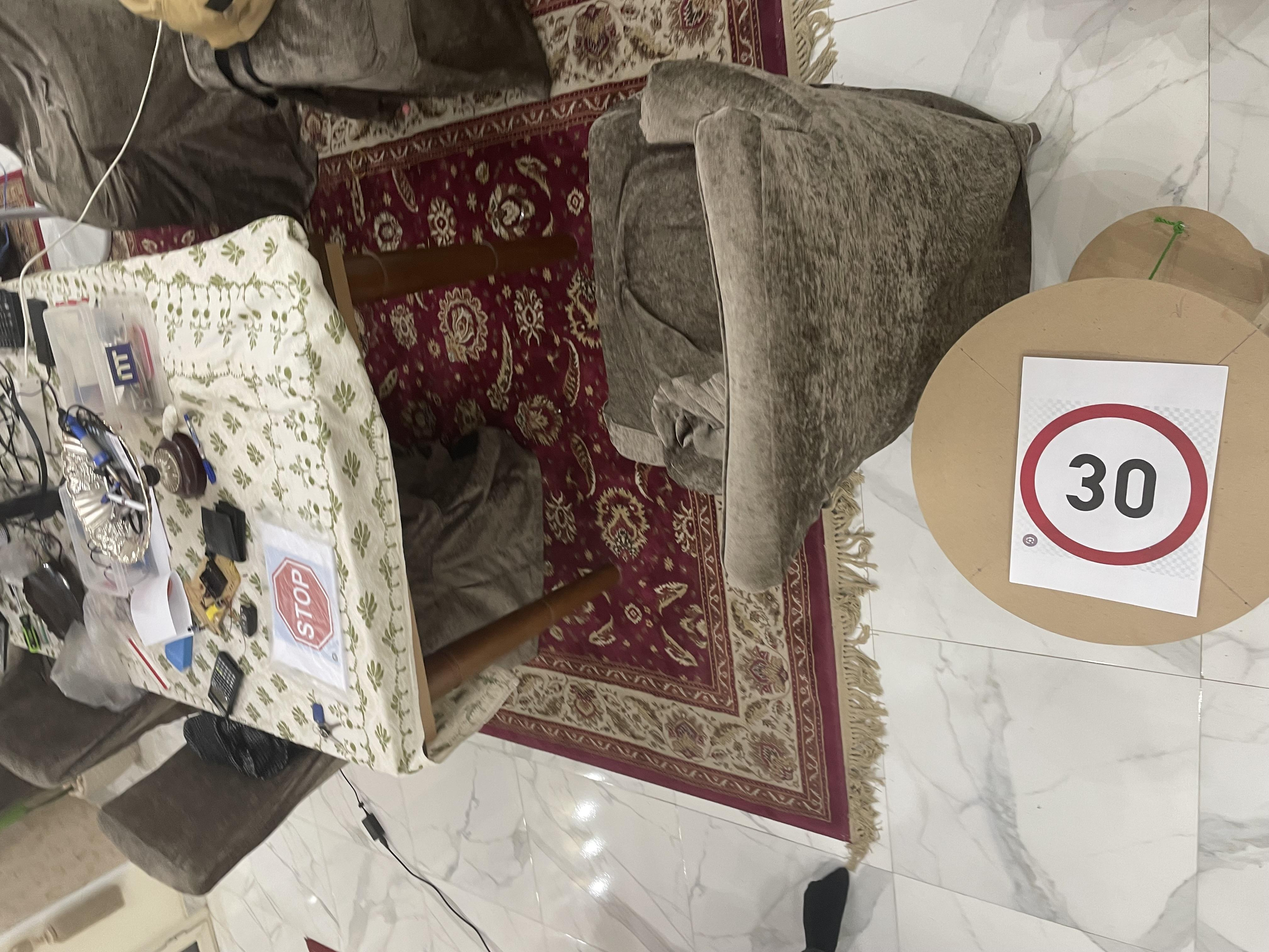30-speed: (509, 761, 744, 910)
